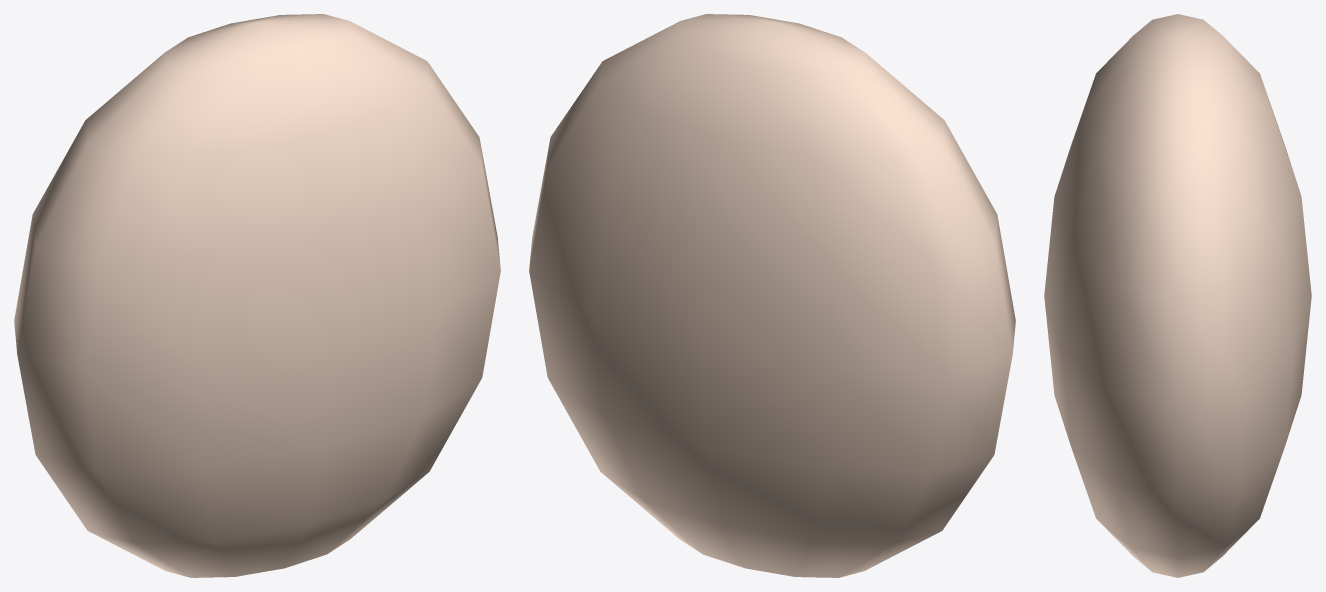
File: faces-chibi-02.glb
The picture shows the model from 3 angles, left to right: view 1: azimuth 30°, elevation 25°; view 2: azimuth 150°, elevation 25°; view 3: azimuth 270°, elevation 25°; orthographic projection. The views are drawn at different scales.
Visible parts, largest first — view 1: part_0; view 2: part_0; view 3: part_0.
Boxes of the visible parts, x1=… form: part_0: x1=14, y1=14, x2=500, y2=577; part_0: x1=529, y1=14, x2=1015, y2=577; part_0: x1=1044, y1=14, x2=1311, y2=577.
Bounding box in the file's own units: 1.14 × 1.24 × 0.58.
